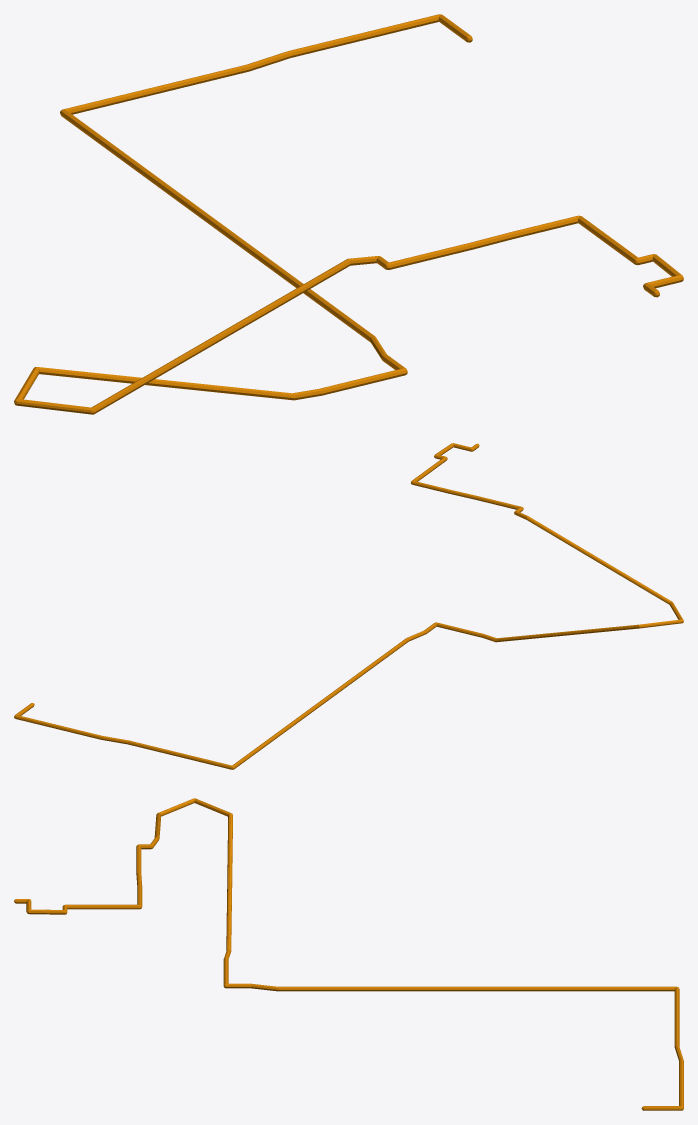
3 views of the same model, one above another, from view 1: azimuth 30°, elevation 25°; view 2: azimuth 150°, elevation 25°; view 3: azimuth 270°, elevation 25° (orthographic). The views are drawn at different scales.
Size of the model in its own units: 2409 by 520 by 2690.
